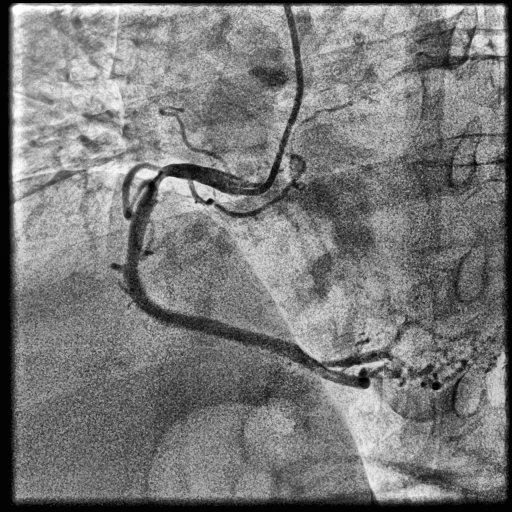pborca: (322, 320, 426, 368)
pda: (311, 359, 467, 391)
rca: (126, 164, 327, 369)
